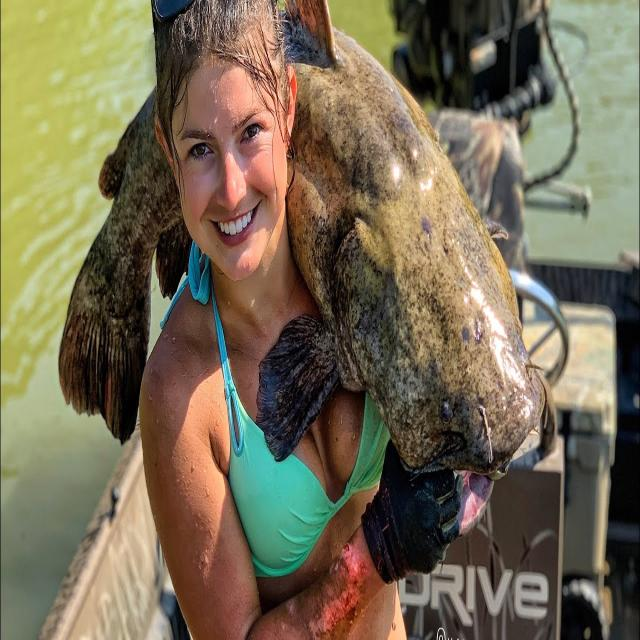Catfish - Flathead: (286, 0, 545, 473)
